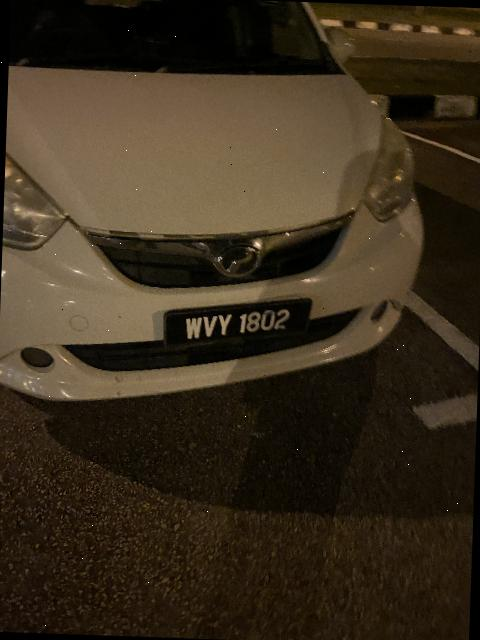License_Plate: (163, 290, 316, 363)
car: (1, 1, 437, 429)
